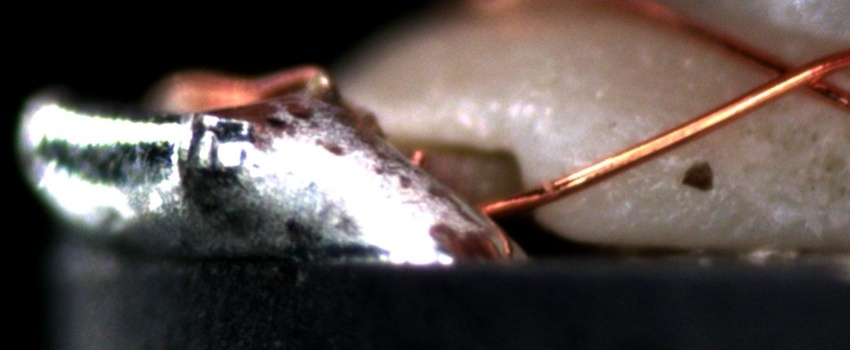CL: (749, 45, 842, 103)
TE: (146, 52, 339, 119)
